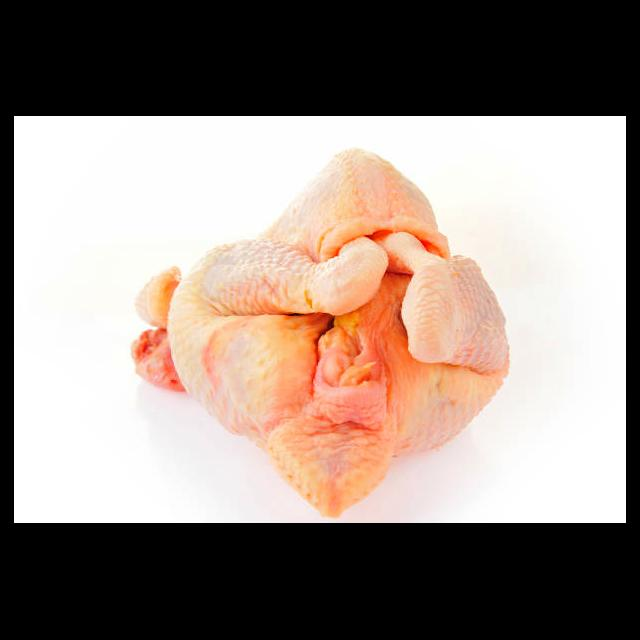chicken: (129, 148, 512, 520)
